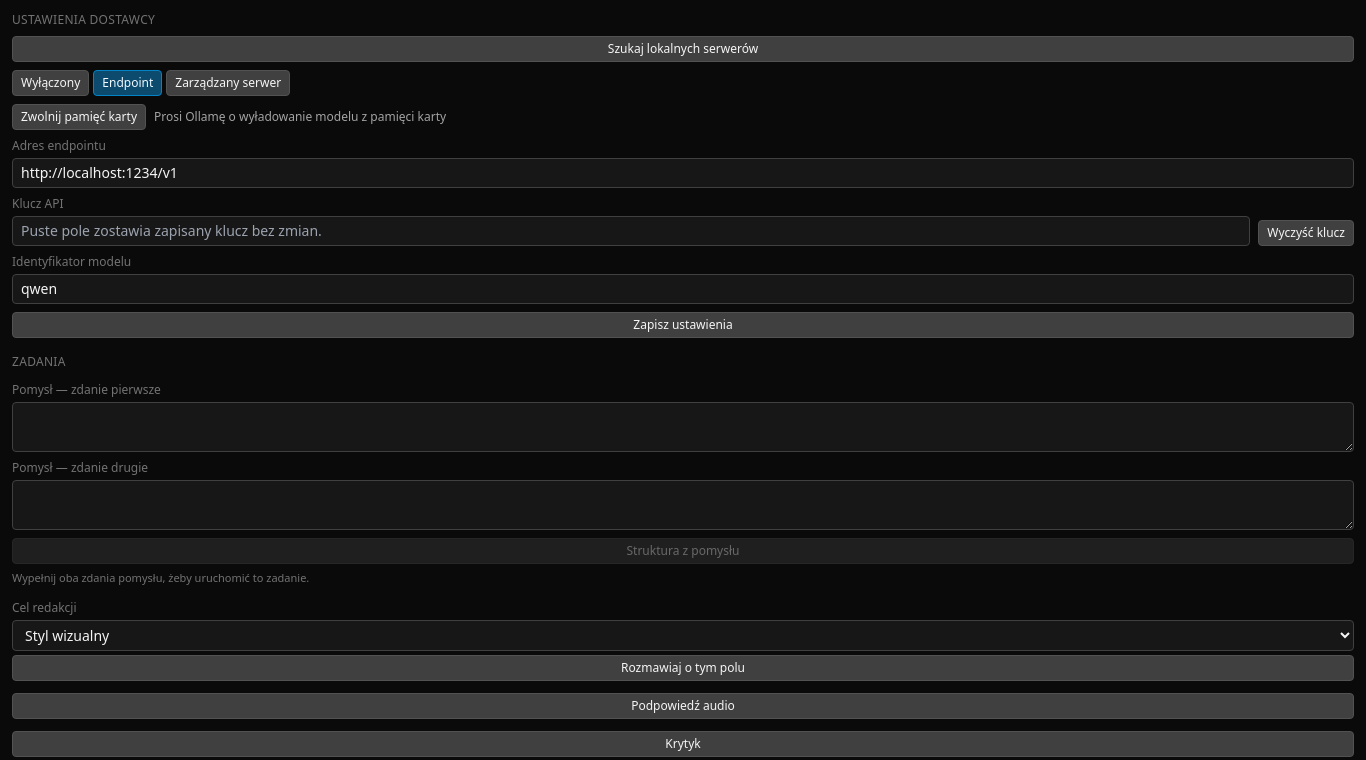
LlmPanel — przycisk zwolnienia pamięci karty, Ollama › kliknięcie woła trasę zwolnienia i pokazuje potwierdzenie
This screenshot has width=1366, height=760.
Expected: the text "Prosi Ollamę o wyładowanie modelu z pamięci karty" is shown, [154, 109, 446, 125]
What coordinates should you click on to do the following:
click the button "Zwolnij pamięć karty"
I would click on:
 (79, 117)
Its box is [12, 104, 146, 130].
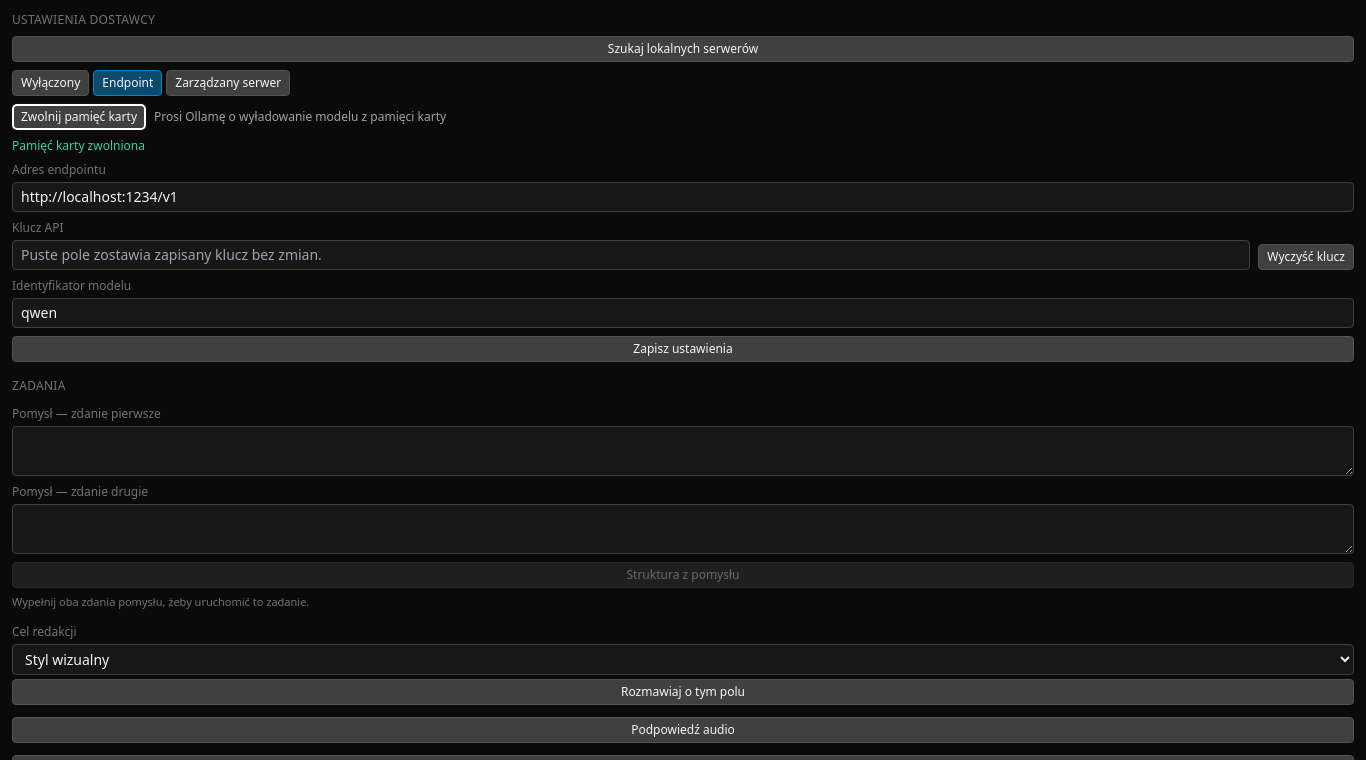
Expected: the text "Pamięć karty zwolniona" is shown, [12, 137, 145, 154]
